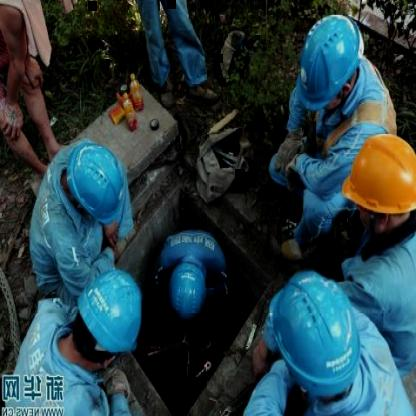helmet: (266, 263, 364, 394), (294, 11, 364, 117), (74, 261, 146, 362), (341, 129, 416, 216), (63, 137, 127, 224)
